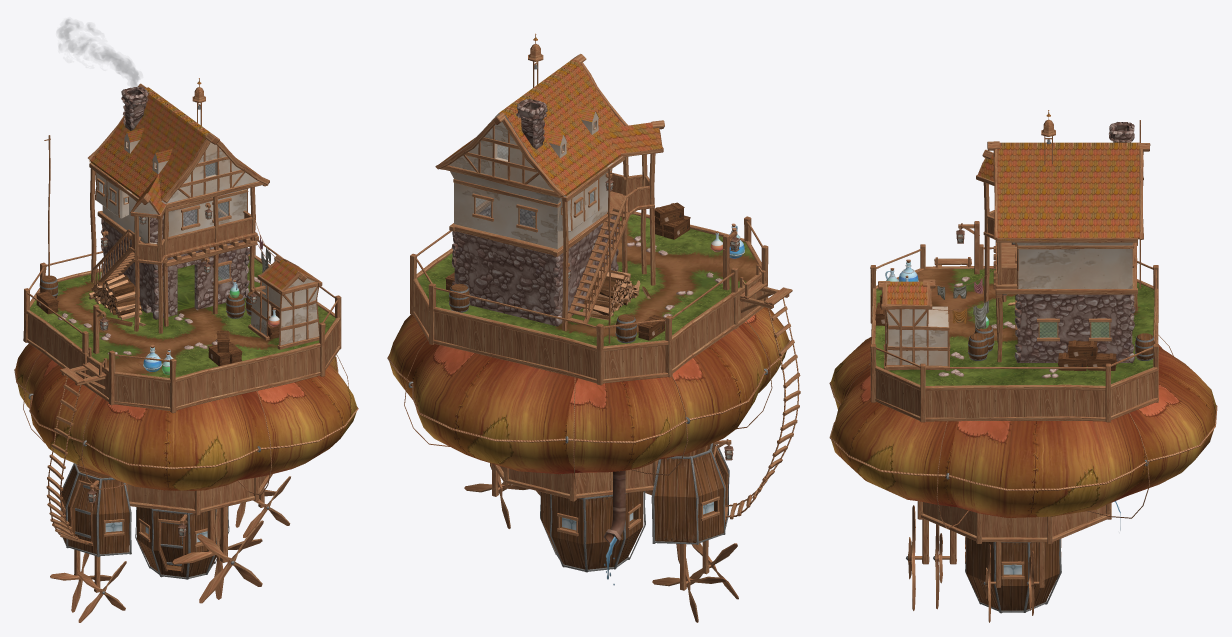
The model's file is island.glb.
3 views of the same model, side by side, from view 1: azimuth 30°, elevation 25°; view 2: azimuth 150°, elevation 25°; view 3: azimuth 270°, elevation 25° (orthographic). The views are drawn at different scales.
Parts seen in each view (by area): view 1: Object_2, Object_19, Object_17, Object_12, Object_5, Object_4, Object_20, Object_31, Object_14, Object_11, Object_24, Object_9 (+7 smaller); view 2: Object_2, Object_19, Object_17, Object_4, Object_12, Object_31, Object_20, Object_14, Object_5, Object_11, Object_9, Object_8 (+2 smaller); view 3: Object_2, Object_20, Object_19, Object_12, Object_5, Object_17, Object_31, Object_14, Object_4, Object_24, Object_9, Object_25 (+4 smaller).
Part boxes in pixels (bbox=[...]): Object_2: bbox=[15, 344, 357, 490]; Object_19: bbox=[23, 135, 341, 413]; Object_17: bbox=[88, 83, 269, 523]; Object_12: bbox=[30, 256, 335, 377]; Object_5: bbox=[46, 384, 290, 622]; Object_4: bbox=[60, 463, 229, 579]; Object_20: bbox=[90, 87, 260, 213]; Object_31: bbox=[101, 209, 249, 319]; Object_14: bbox=[89, 133, 258, 243]; Object_11: bbox=[14, 202, 358, 542]; Object_24: bbox=[251, 278, 319, 345]; Object_9: bbox=[28, 275, 279, 452]; Object_2: bbox=[388, 307, 789, 474]; Object_19: bbox=[410, 168, 792, 385]; Object_17: bbox=[435, 41, 737, 448]; Object_4: bbox=[540, 443, 729, 572]; Object_12: bbox=[417, 214, 760, 345]; Object_31: bbox=[451, 204, 618, 326]; Object_20: bbox=[440, 59, 662, 195]; Object_14: bbox=[442, 111, 622, 249]; Object_5: bbox=[464, 306, 800, 622]; Object_11: bbox=[387, 173, 799, 517]; Object_9: bbox=[408, 202, 767, 443]; Object_8: bbox=[603, 470, 625, 585]; Object_2: bbox=[830, 337, 1216, 517]; Object_20: bbox=[978, 142, 1139, 240]; Object_19: bbox=[870, 120, 1158, 422]; Object_12: bbox=[875, 269, 1154, 385]; Object_5: bbox=[908, 501, 1111, 622]; Object_17: bbox=[958, 117, 1150, 362]; Object_31: bbox=[1014, 294, 1135, 363]; Object_14: bbox=[1016, 242, 1132, 288]; Object_4: bbox=[965, 537, 1061, 613]; Object_24: bbox=[886, 306, 948, 365]; Object_9: bbox=[875, 294, 1154, 479]; Object_25: bbox=[878, 279, 950, 370].
Size of the model in its own units: 13.25 by 22.46 by 13.5.
28 materials, 27 textured.
